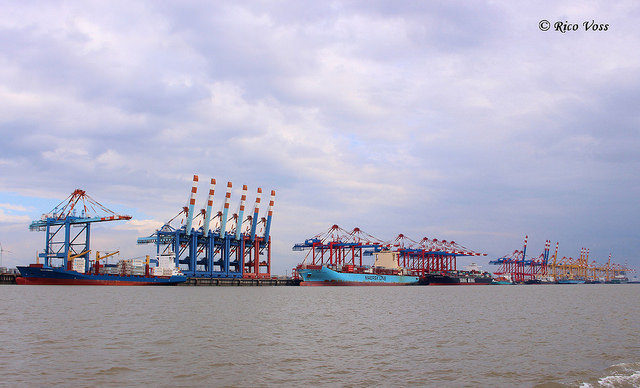bulk carrier: (16, 238, 187, 286)
container_ship: (299, 252, 420, 286), (428, 260, 494, 287)
